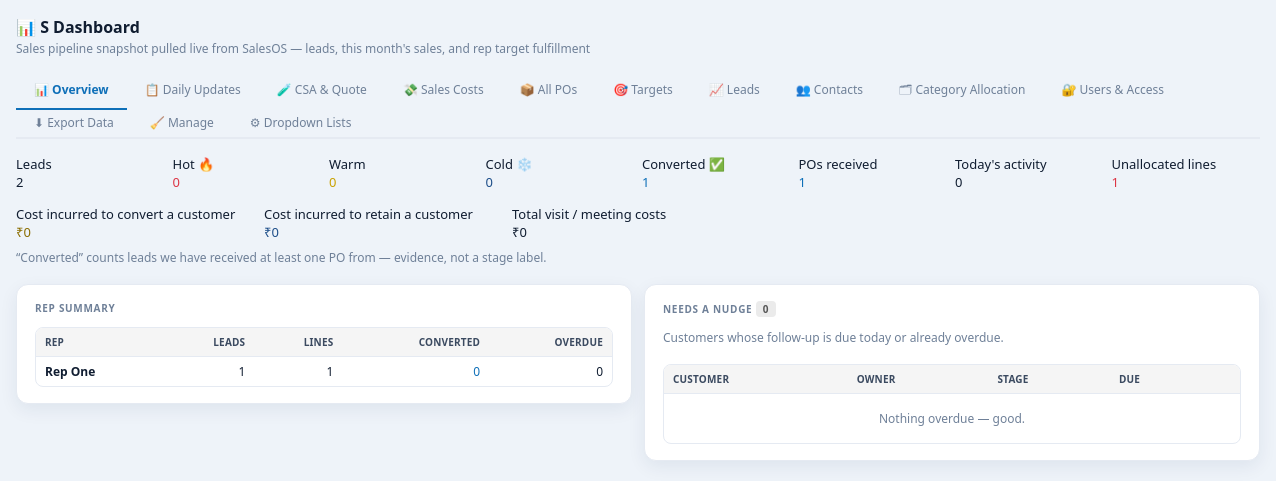
Test: S Dashboard — the tabs production ships › All POs totals the value across reps
The width and height of the screenshot is (1276, 481).
Expected: the text "📊 S Dashboard" is shown, [16,16,140,38]
What coordinates should you click on to do the following:
click the text with class "step-tab" showing "📦 All POs"
I would click on:
 (548, 90)
Its box is [520,81,577,98].
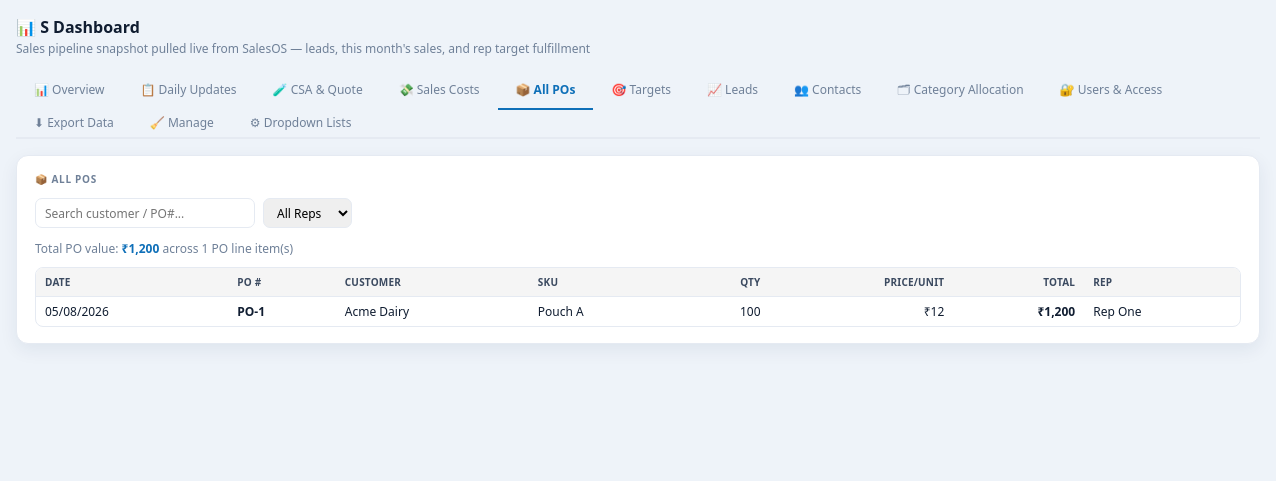
Expected: the text "Total PO value: ₹1,200 across 1 PO line item(s)" is shown, [35,240,293,257]
Expected: the text "PO-1" is shown, [228,296,336,326]
